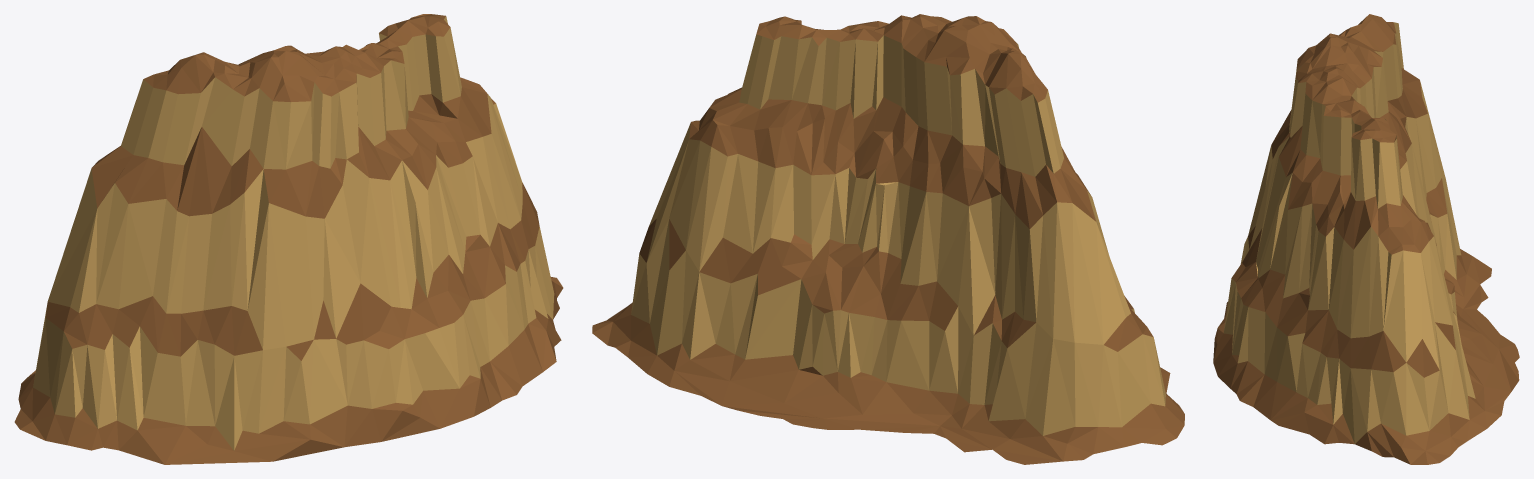
Rendered from Mounting_3.fbx.
3 views of the same model, side by side, from view 1: azimuth 30°, elevation 25°; view 2: azimuth 150°, elevation 25°; view 3: azimuth 270°, elevation 25° (orthographic). The views are drawn at different scales.
Visible parts, largest first — view 1: Mounting_3; view 2: Mounting_3; view 3: Mounting_3.
Part boxes in pixels (x1,y1,x2,y2): Mounting_3: [14, 14, 563, 464]; Mounting_3: [592, 14, 1184, 464]; Mounting_3: [1213, 14, 1519, 464].
Size of the model in its own units: 2470 by 1480 by 1390.
